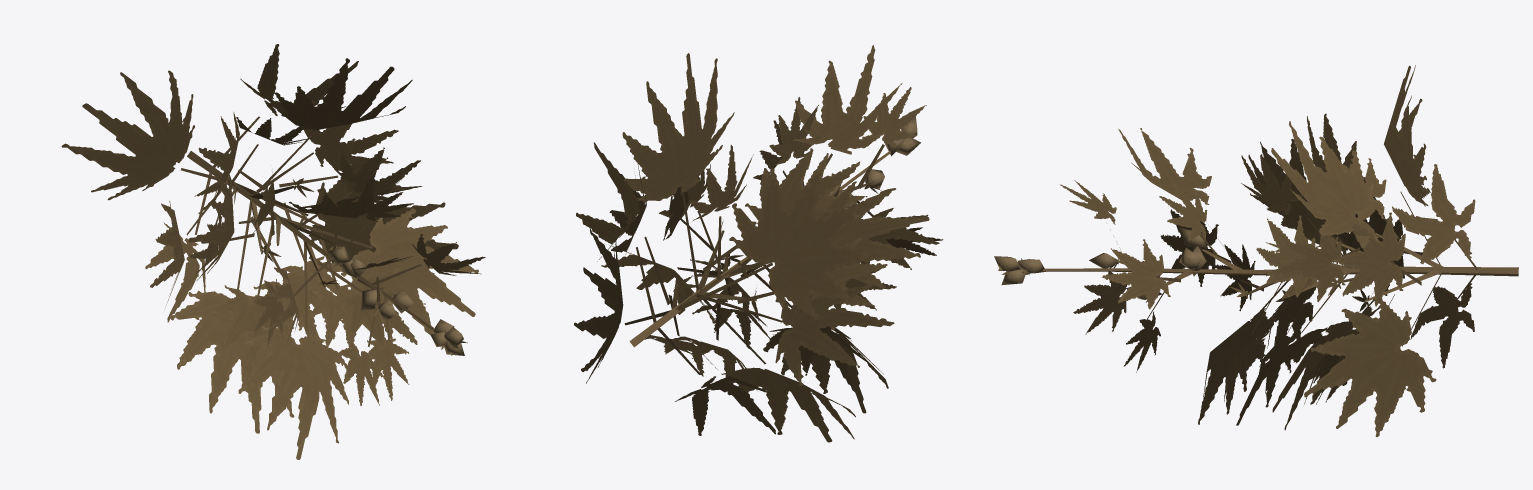
The model's file is p_male_haze_preflower_c3_cards.obj.
3 renders of one model, left to right at view 1: azimuth 30°, elevation 25°; view 2: azimuth 150°, elevation 25°; view 3: azimuth 270°, elevation 25°, orthographic. The views are drawn at different scales.
Bounding box in the file's own units: 1.38 × 1.35 × 1.58.
Materials: 1 (1 with a texture image).
